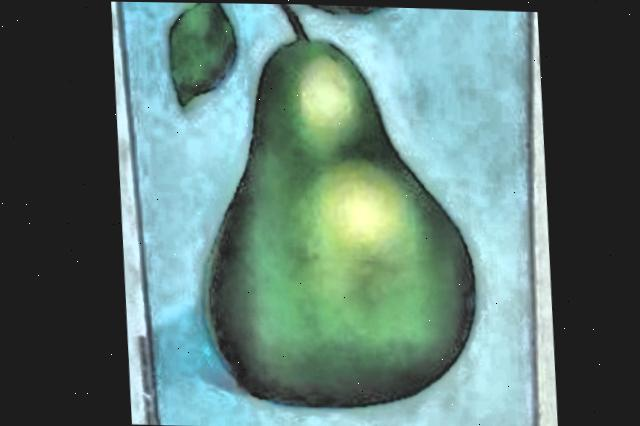La Pera: (118, 1, 532, 426)
